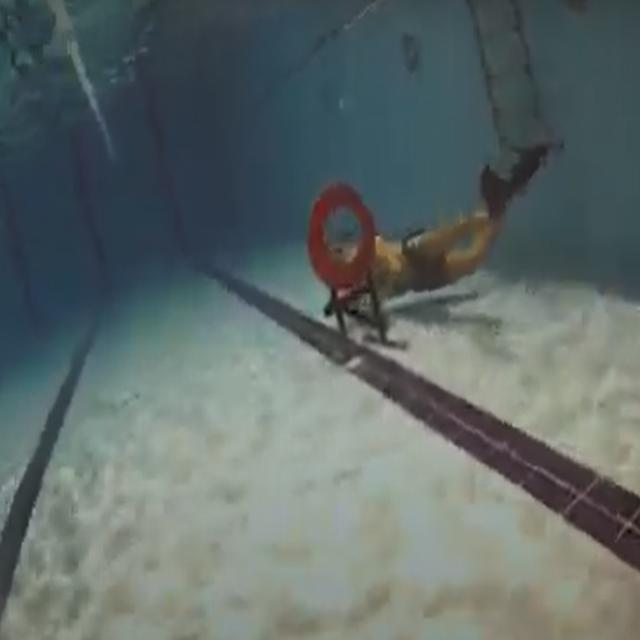Circle: (308, 177, 381, 295)
